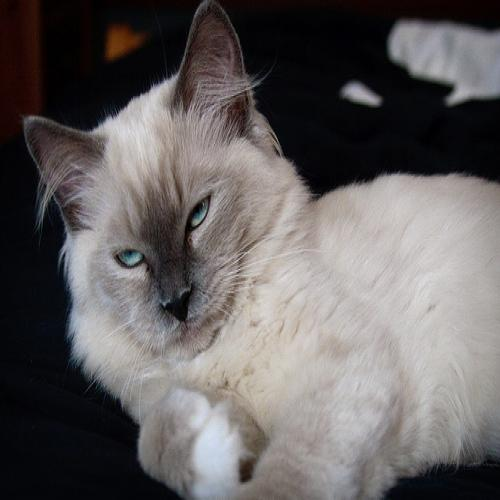ragdoll: (20, 1, 293, 378)
